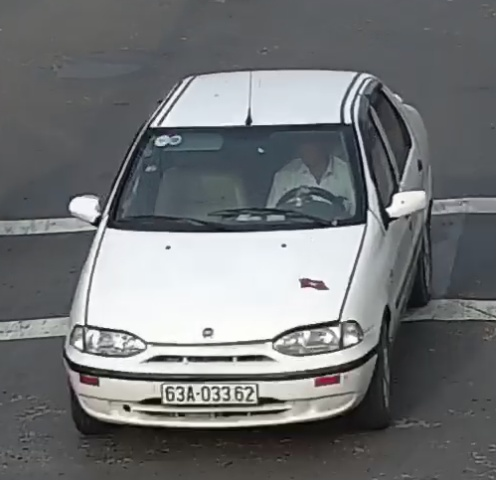vehicle plate: (157, 377, 264, 410)
